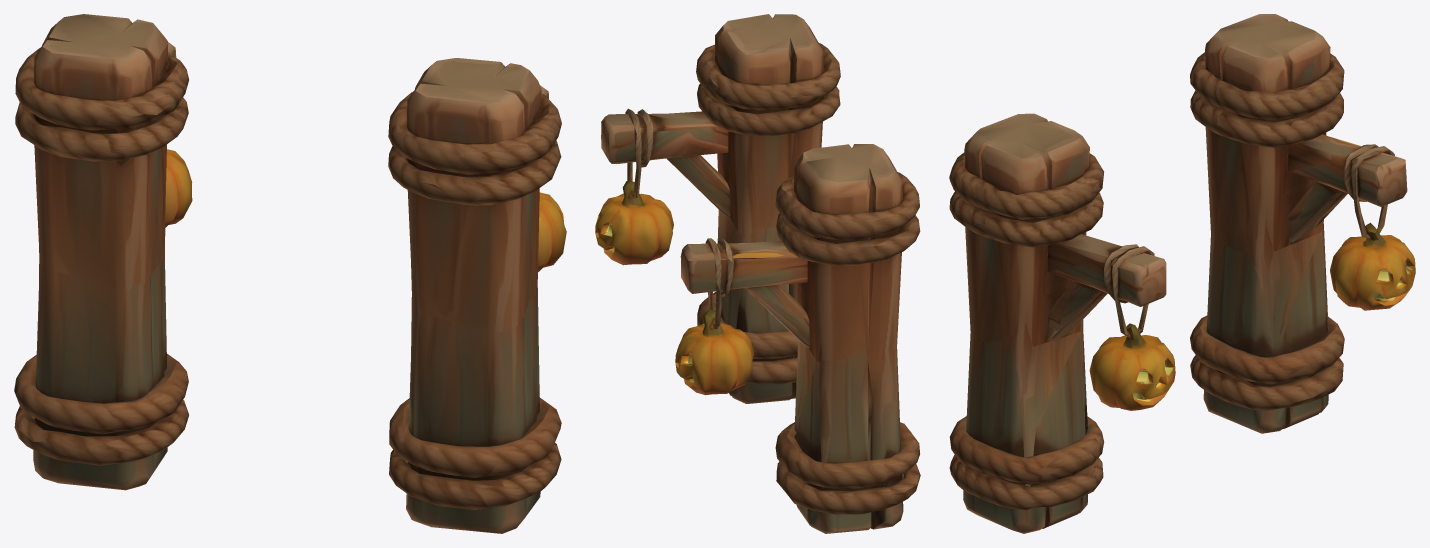
The model's file is L8_RopeBridgePost_LOD1.fbx.
3 views of the same model, side by side, from view 1: azimuth 30°, elevation 25°; view 2: azimuth 150°, elevation 25°; view 3: azimuth 270°, elevation 25° (orthographic). The views are drawn at different scales.
Visible parts, largest first — view 1: L8_RopeBridgePost_LOD1; view 2: L8_RopeBridgePost_LOD1; view 3: L8_RopeBridgePost_LOD1.
Boxes of the visible parts, x1=… form: L8_RopeBridgePost_LOD1: x1=14, y1=14, x2=566, y2=533; L8_RopeBridgePost_LOD1: x1=595, y1=14, x2=920, y2=533; L8_RopeBridgePost_LOD1: x1=949, y1=14, x2=1415, y2=533.
Bounding box in the file's own units: 1.78 × 1.6 × 1.8.
Materials: 1 (1 with a texture image).
